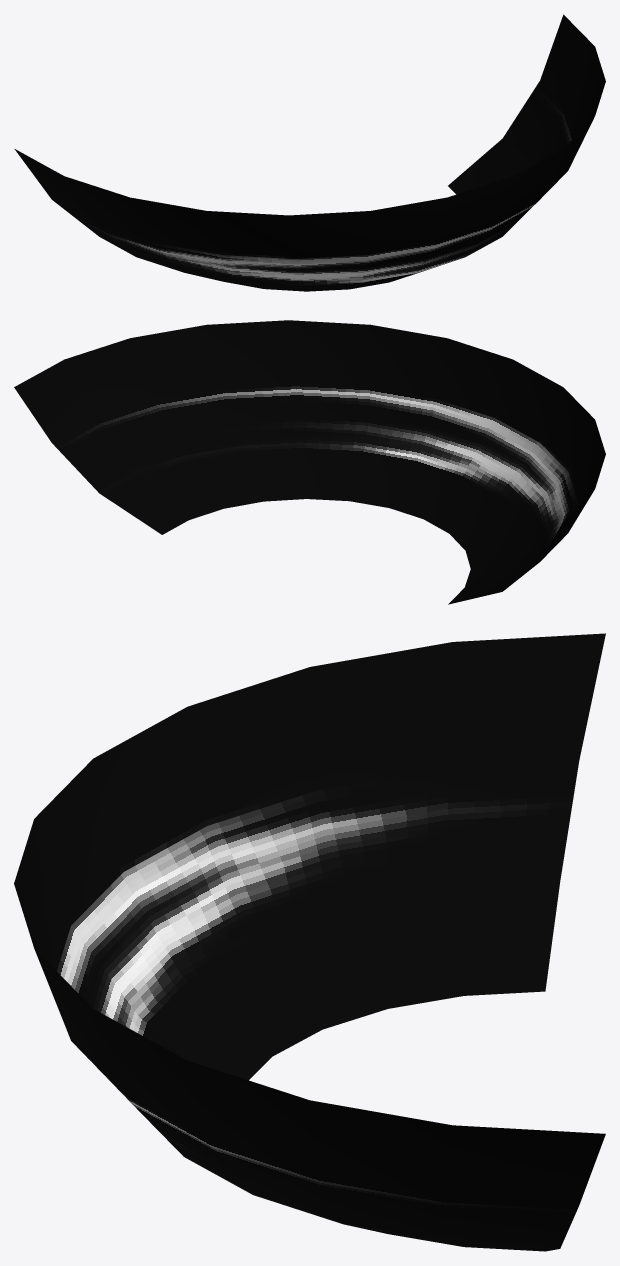
File: qibo013.FBX
3 views of the same model, one above another, from view 1: azimuth 30°, elevation 25°; view 2: azimuth 150°, elevation 25°; view 3: azimuth 270°, elevation 25° (orthographic). The views are drawn at different scales.
Parts seen in each view (by area): view 1: qibo013; view 2: qibo013; view 3: qibo013.
Part boxes in pixels (x1,y1,x2,y2): qibo013: [14, 14, 605, 291]; qibo013: [14, 320, 605, 604]; qibo013: [14, 633, 605, 1251].
Bounding box in the file's own units: 90.69 × 20.11 × 45.34.
